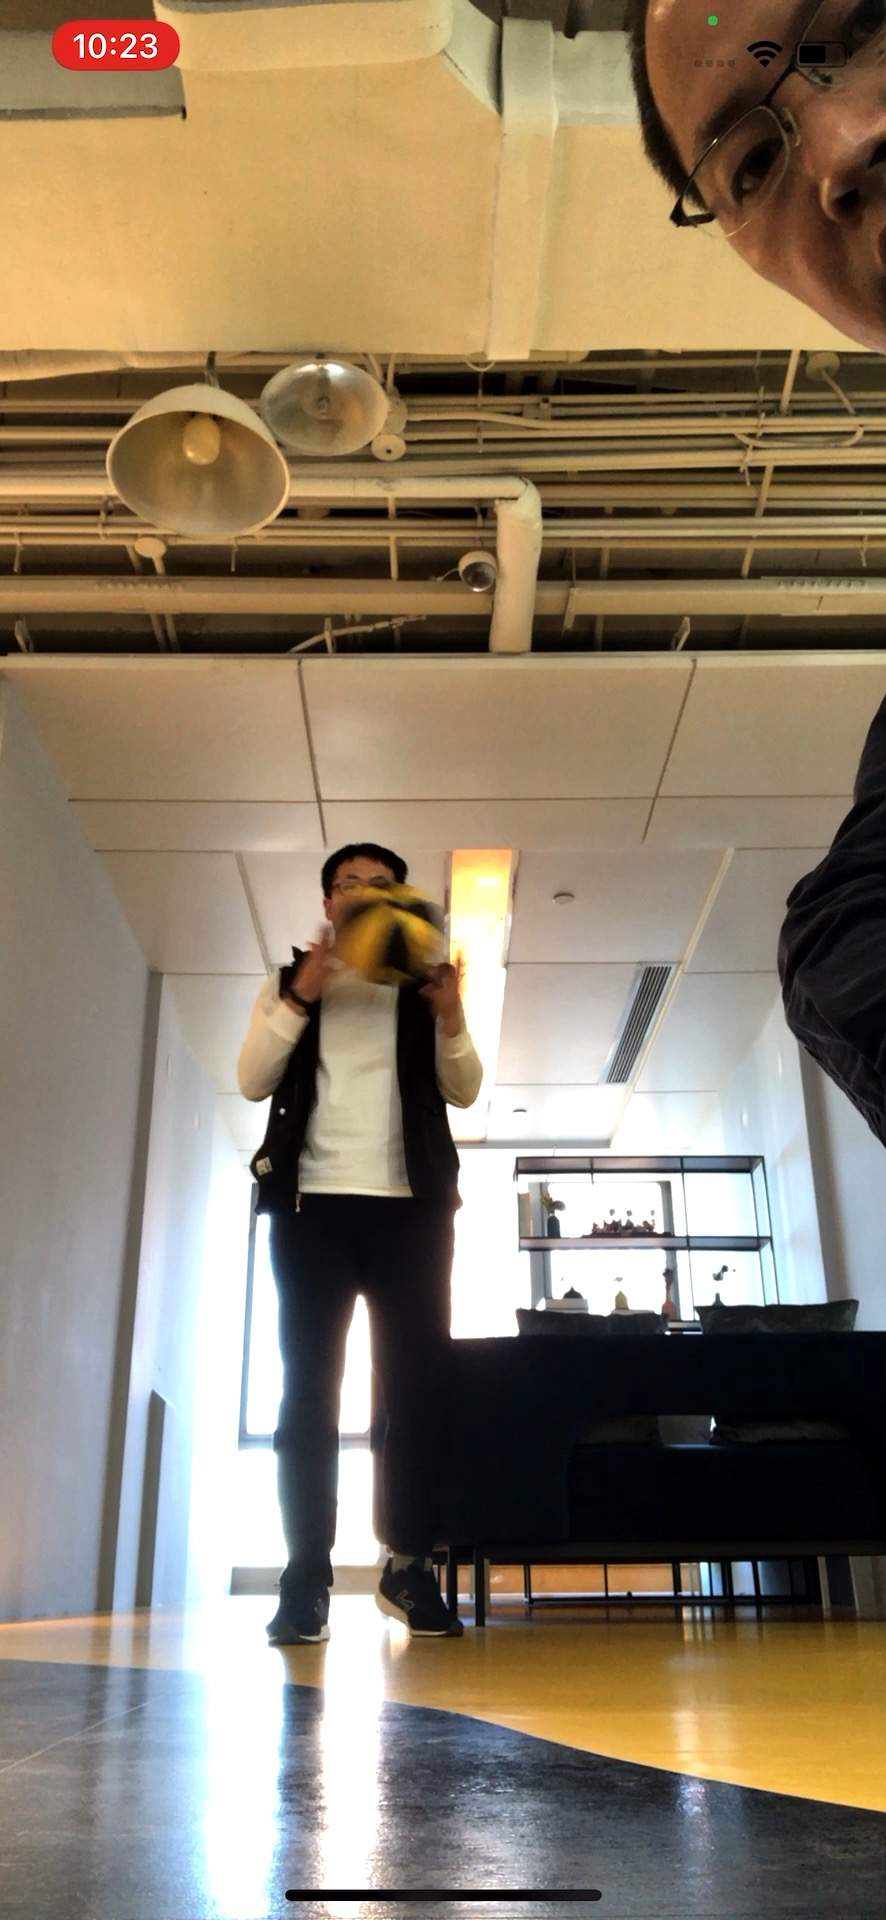ball: (335, 882, 447, 986)
